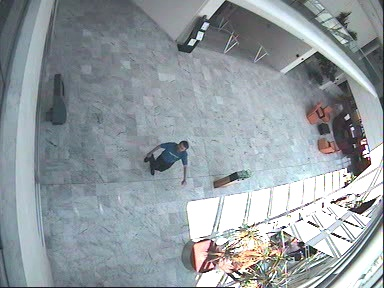person: (142, 140, 188, 184)
